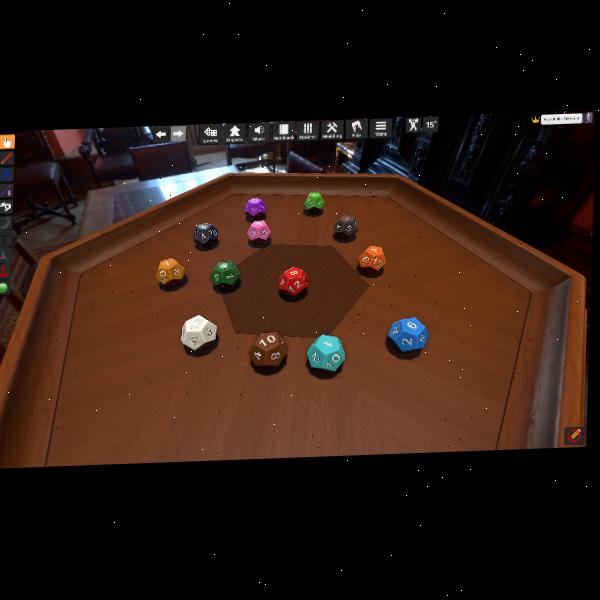d12: (249, 330, 287, 367), (306, 333, 342, 372), (180, 314, 216, 351), (387, 317, 425, 352), (277, 266, 308, 299), (155, 257, 185, 289), (210, 259, 240, 290), (358, 245, 384, 273), (332, 215, 357, 241), (246, 219, 271, 245), (193, 222, 217, 249), (244, 196, 267, 220), (303, 191, 324, 213)
